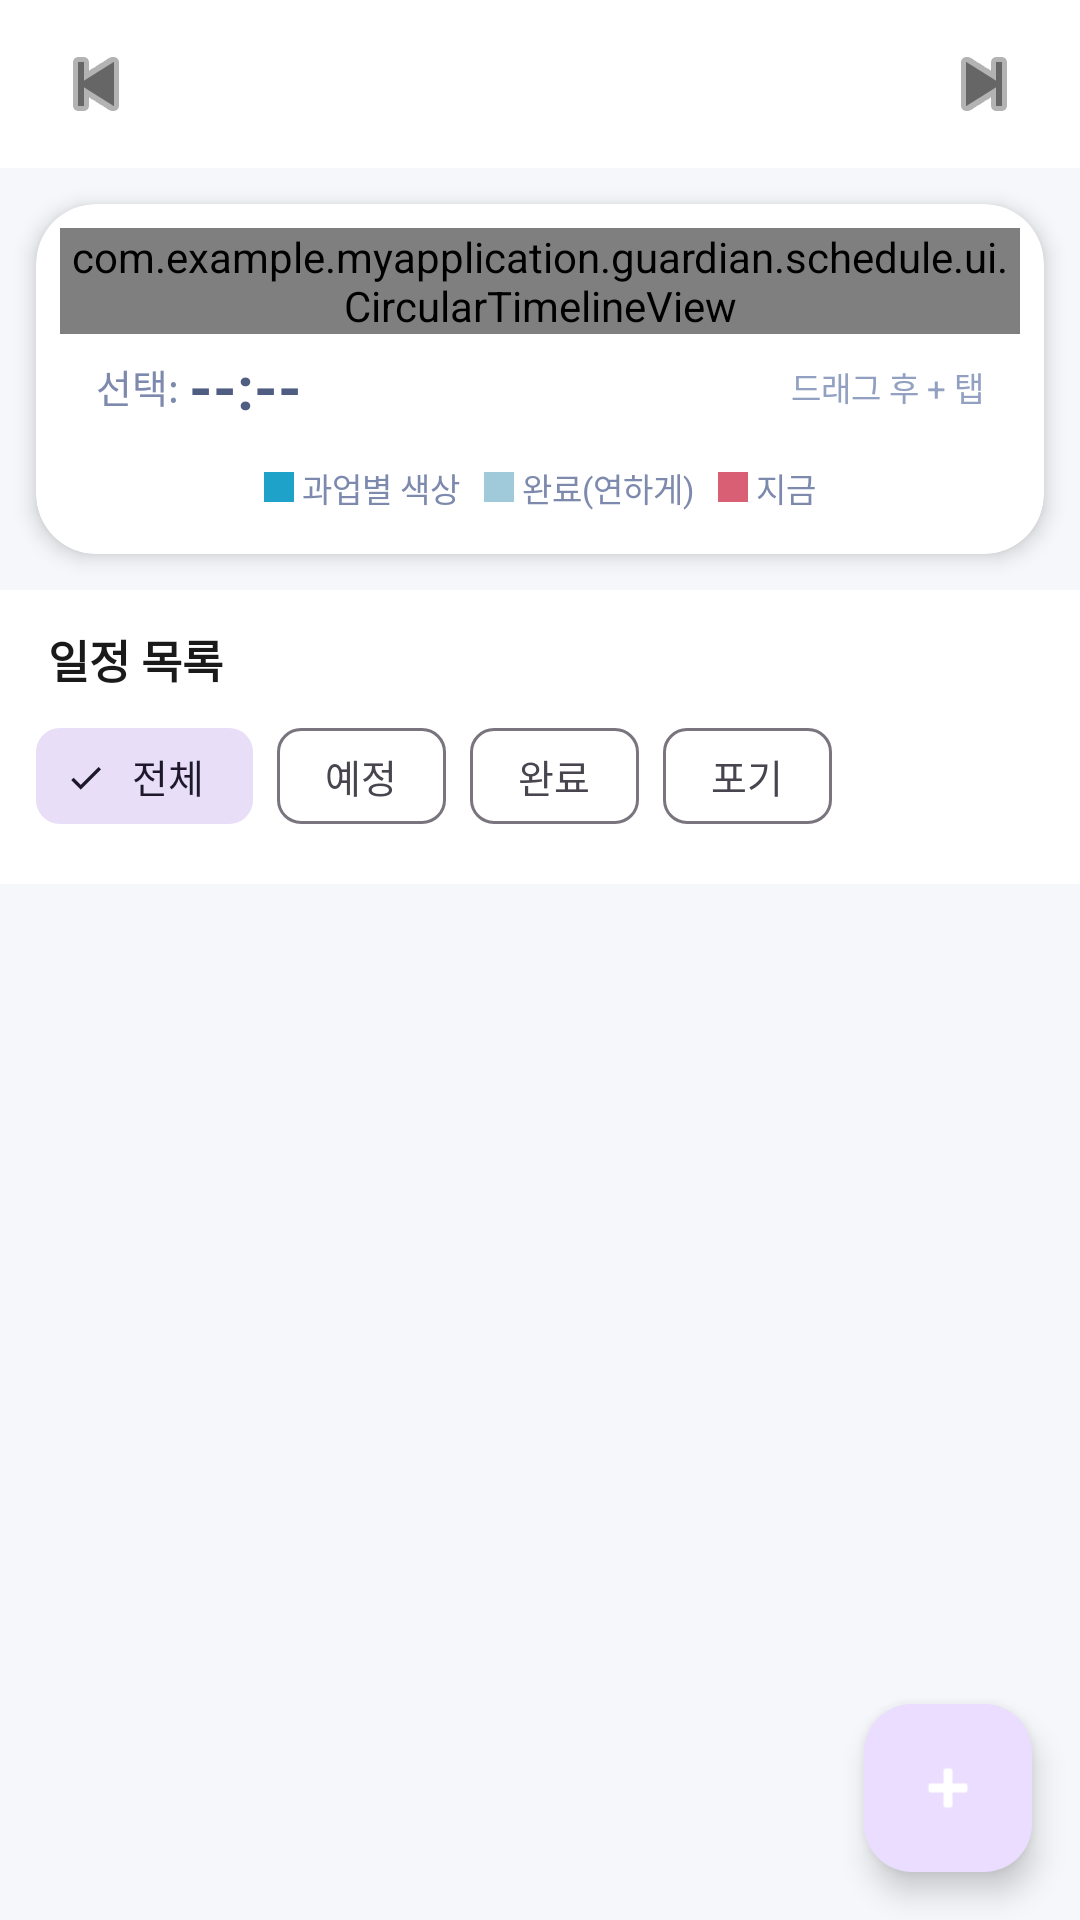

Locate icon controls on the screen. Image size 1080w x 1920h, boxes as (x1, y1, x2, y2).
add: (864, 1704, 1032, 1872)
다음날: (961, 57, 1007, 111)
이전날: (73, 57, 119, 111)
